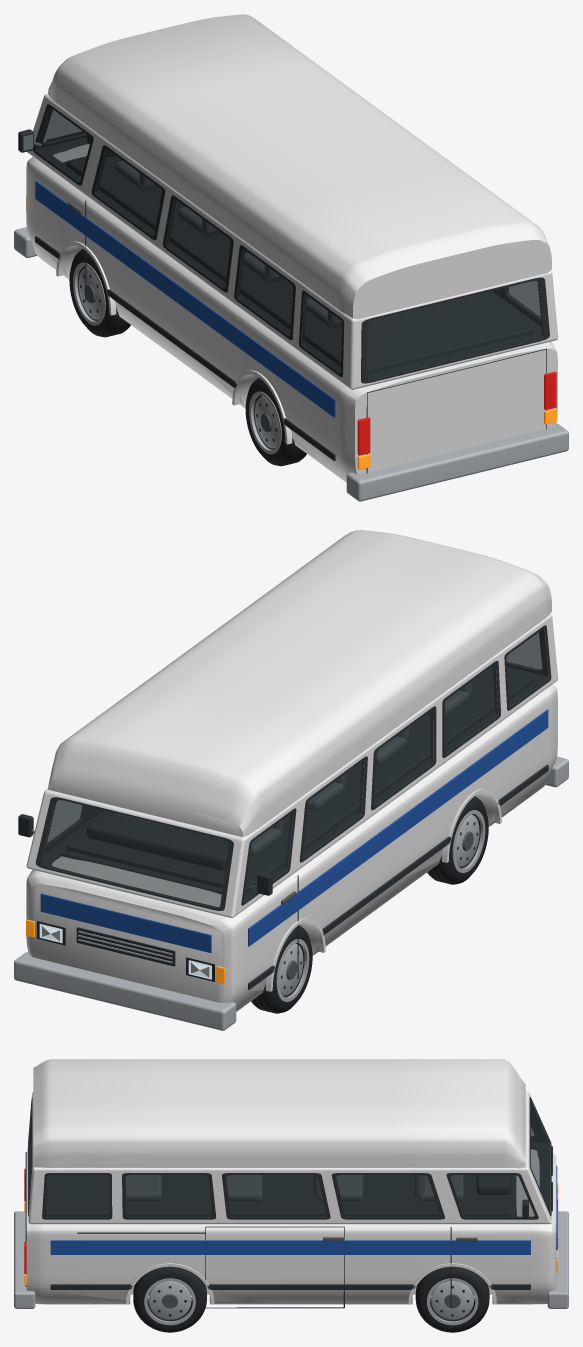
The model's file is giza-microbus.glb.
3 renders of one model, top to bottom at view 1: azimuth 30°, elevation 25°; view 2: azimuth 150°, elevation 25°; view 3: azimuth 270°, elevation 25°, orthographic. The views are drawn at different scales.
Visible parts, largest first — view 1: Body geometry, Running wheel geometry, Running wheel geometry.002; view 2: Body geometry, Running wheel geometry, Running wheel geometry.002; view 3: Body geometry, Running wheel geometry.001, Running wheel geometry.003.
Part boxes in pixels (box(x1,y1,x2,y2)): Body geometry: box(14, 14, 568, 501); Running wheel geometry: box(69, 249, 130, 337); Running wheel geometry.002: box(245, 377, 306, 466); Body geometry: box(14, 530, 568, 1030); Running wheel geometry: box(251, 925, 312, 1013); Running wheel geometry.002: box(427, 796, 488, 884); Body geometry: box(14, 1059, 568, 1308); Running wheel geometry.001: box(415, 1266, 489, 1332); Running wheel geometry.003: box(133, 1266, 206, 1332).
Bounding box in the file's own units: 1.49 × 1.45 × 3.54.
